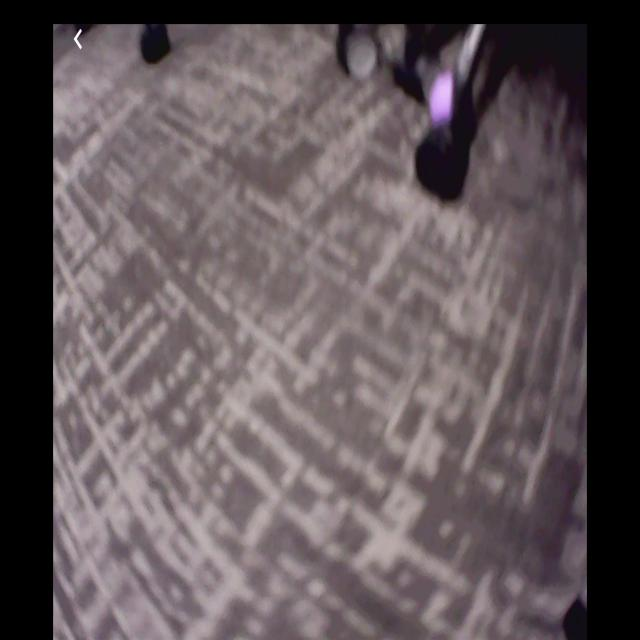ball: (431, 73, 457, 126)
